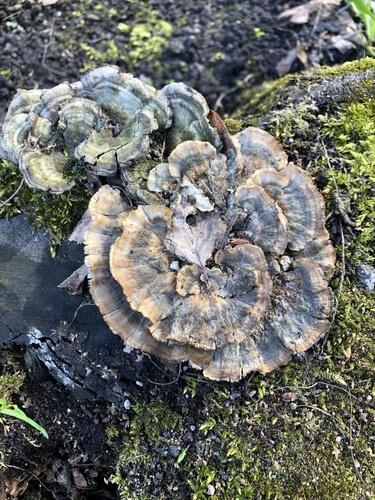Non-edible Mushroom: (0, 64, 338, 382)
